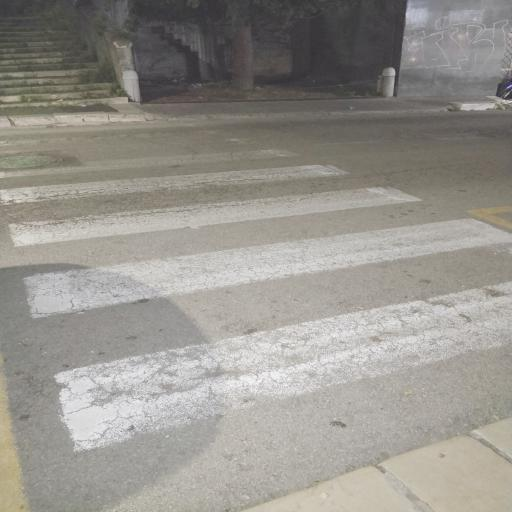crosswalk: (4, 182, 512, 326)
